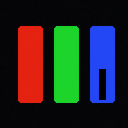4 line_v: (99, 69, 105, 99)
